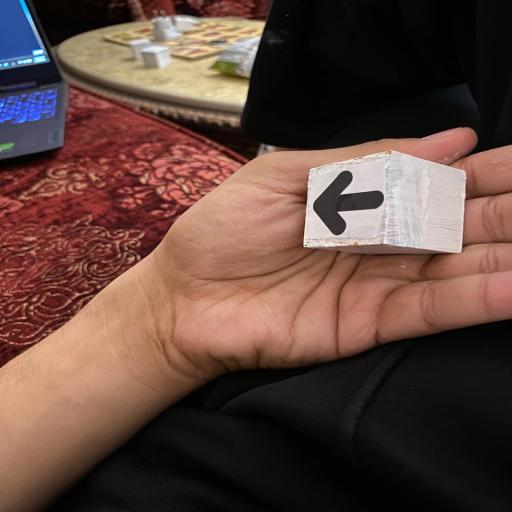Back: (299, 149, 468, 255)
